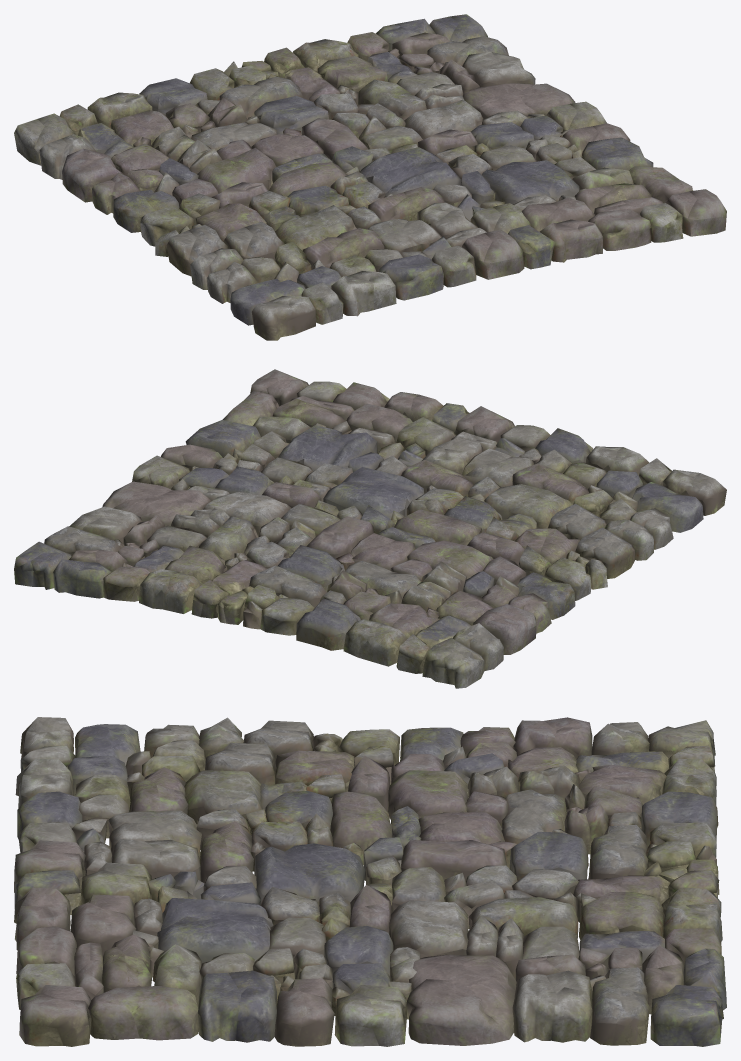
The model's file is SM_Cobbles_4M.fbx.
3 renders of one model, top to bottom at view 1: azimuth 30°, elevation 25°; view 2: azimuth 150°, elevation 25°; view 3: azimuth 270°, elevation 25°, orthographic. The views are drawn at different scales.
Visible parts, largest first — view 1: SM_Cobbles_4M_LOD0; view 2: SM_Cobbles_4M_LOD0; view 3: SM_Cobbles_4M_LOD0.
Boxes of the visible parts, x1,y1,x2,y2 form: SM_Cobbles_4M_LOD0: [14, 14, 726, 340]; SM_Cobbles_4M_LOD0: [14, 369, 726, 688]; SM_Cobbles_4M_LOD0: [14, 717, 726, 1046].
Size of the model in its own units: 418 by 421 by 37.17.
